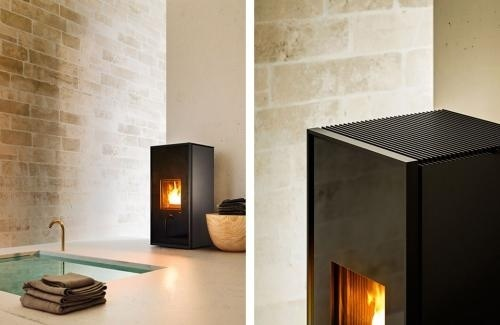fire: (365, 282, 385, 323), (164, 180, 182, 207)
